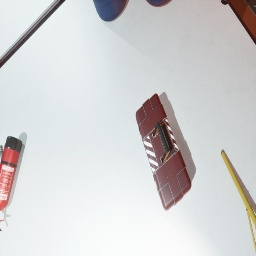FireExtinguisher ]: (0, 136, 22, 231)
FirstAidBox ,: (136, 93, 192, 211)
